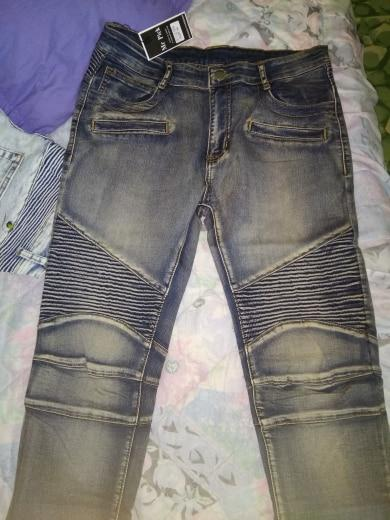jeans: (51, 29, 358, 520)
